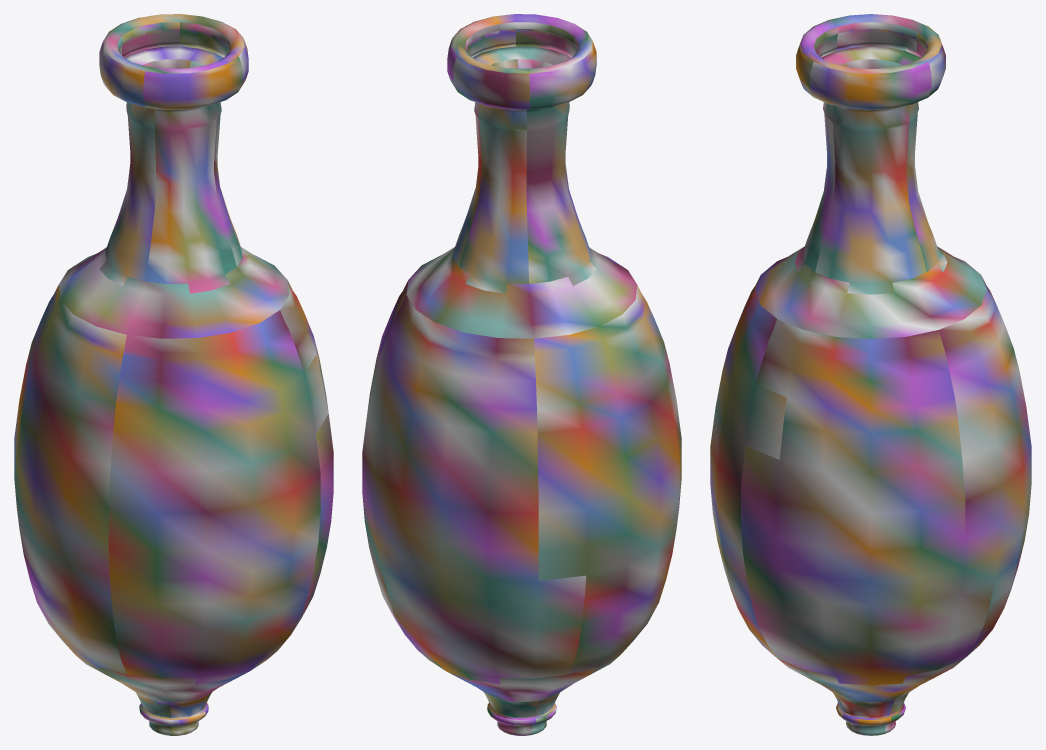
Rendered from vasa1.fbx.
The picture shows the model from 3 angles, left to right: view 1: azimuth 30°, elevation 25°; view 2: azimuth 150°, elevation 25°; view 3: azimuth 270°, elevation 25°; orthographic projection.
Parts seen in each view (by area): view 1: amphora03; view 2: amphora03; view 3: amphora03.
Boxes of the visible parts, x1,y1,x2,y2 form: amphora03: (14, 14, 333, 735); amphora03: (362, 14, 681, 735); amphora03: (710, 14, 1031, 735).
Bounding box in the file's own units: 47.29 × 111 × 47.29.
